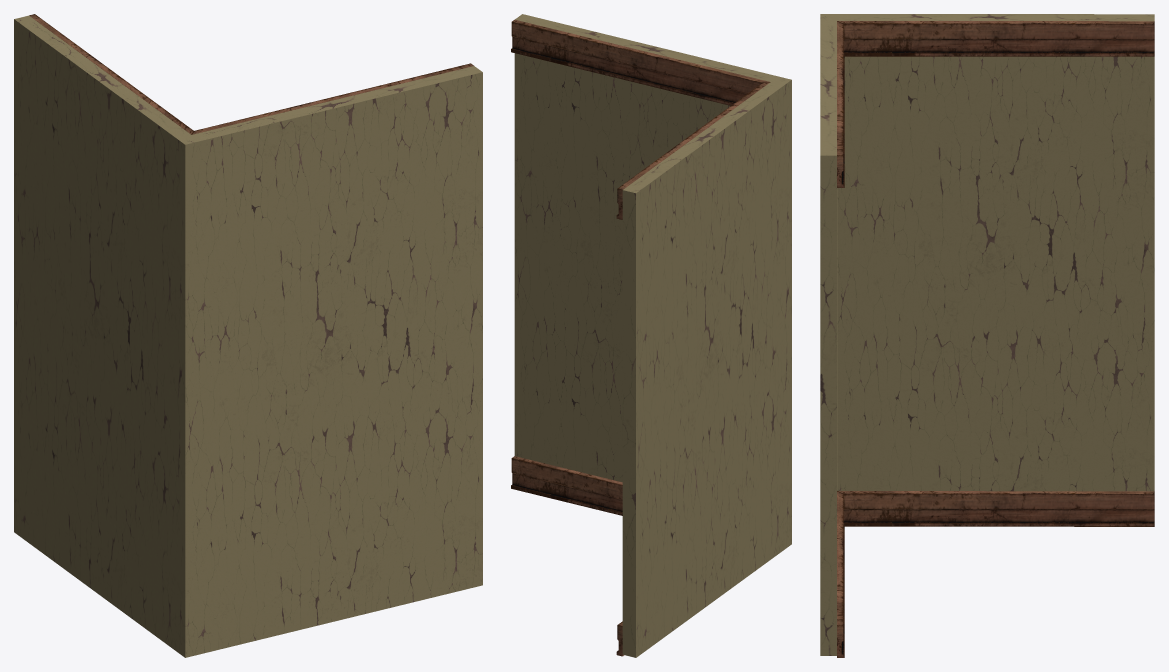
The model's file is Wall_CornerIn_2m_C.fbx.
The picture shows the model from 3 angles, left to right: view 1: azimuth 30°, elevation 25°; view 2: azimuth 150°, elevation 25°; view 3: azimuth 270°, elevation 25°; orthographic projection. The views are drawn at different scales.
Visible parts, largest first — view 1: Wall_CornerIn_2m_A.001; view 2: Wall_CornerIn_2m_A.001; view 3: Wall_CornerIn_2m_A.001.
Part boxes in pixels (x1,y1,x2,y2): Wall_CornerIn_2m_A.001: [14, 14, 482, 657]; Wall_CornerIn_2m_A.001: [511, 14, 791, 657]; Wall_CornerIn_2m_A.001: [820, 14, 1154, 657].
Bounding box in the file's own units: 2 × 3.31 × 2.
